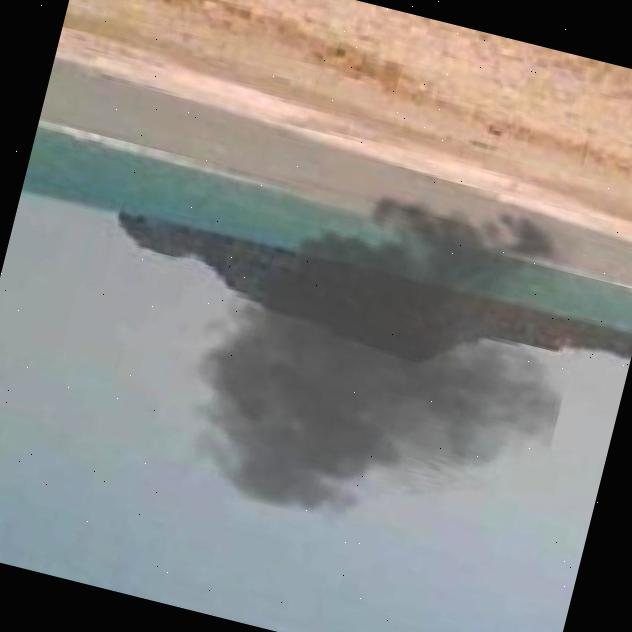smoke: (158, 134, 609, 580)
